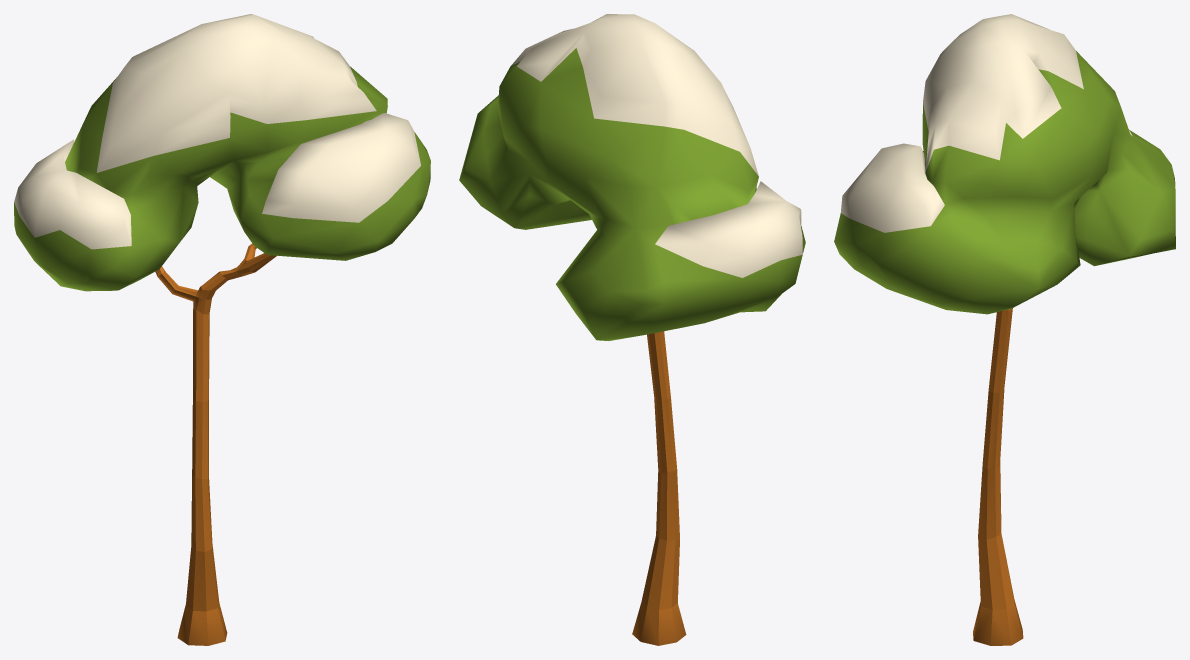
Rendered from Tree_17_Winter.fbx.
3 views of the same model, side by side, from view 1: azimuth 30°, elevation 25°; view 2: azimuth 150°, elevation 25°; view 3: azimuth 270°, elevation 25° (orthographic). The views are drawn at different scales.
Visible parts, largest first — view 1: Tree_17_p2_Winter, Tree_17_p1_Winter; view 2: Tree_17_p2_Winter, Tree_17_p1_Winter; view 3: Tree_17_p2_Winter, Tree_17_p1_Winter.
Boxes of the visible parts, bbox=[...] form: Tree_17_p2_Winter: bbox=[14, 14, 430, 291]; Tree_17_p1_Winter: bbox=[155, 243, 276, 645]; Tree_17_p2_Winter: bbox=[459, 14, 805, 340]; Tree_17_p1_Winter: bbox=[632, 331, 686, 645]; Tree_17_p2_Winter: bbox=[834, 14, 1175, 314]; Tree_17_p1_Winter: bbox=[973, 308, 1023, 645].
Size of the model in its own units: 342 by 563 by 278.
